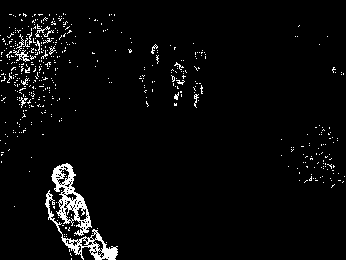person: (45, 163, 119, 260), (171, 61, 188, 106), (141, 64, 156, 107)
